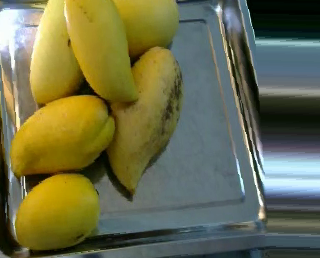Mango: (107, 46, 183, 195), (10, 95, 114, 175), (63, 0, 139, 102), (15, 172, 99, 250), (30, 0, 85, 103), (113, 0, 179, 55)
